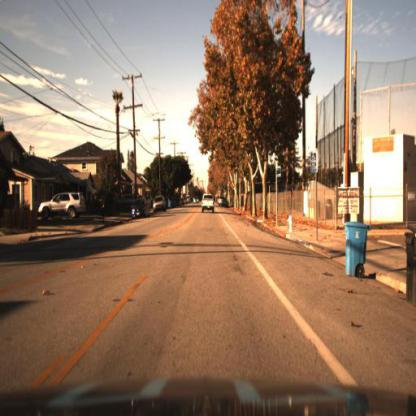car: (38, 192, 88, 224), (130, 195, 149, 220), (201, 191, 217, 216), (152, 193, 167, 218), (153, 195, 169, 212)
